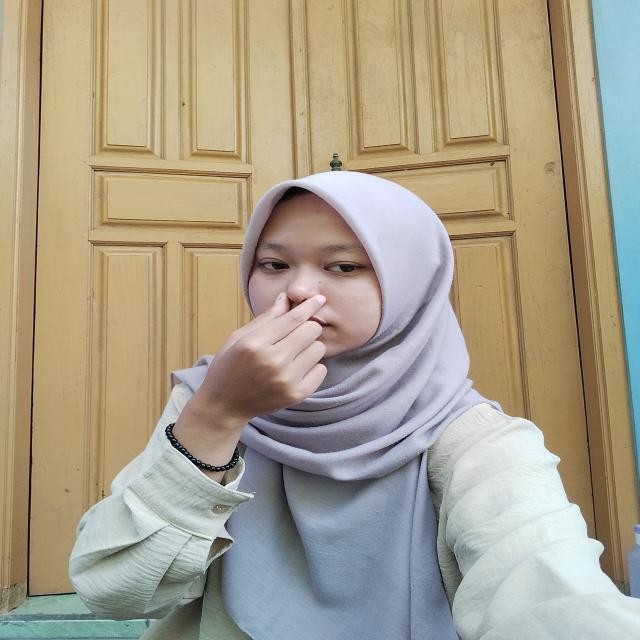bau: (190, 273, 338, 419)
